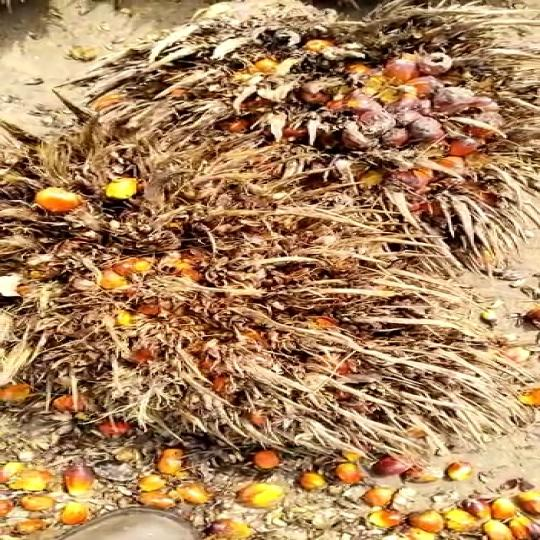terlalu masak: (85, 4, 524, 178)
